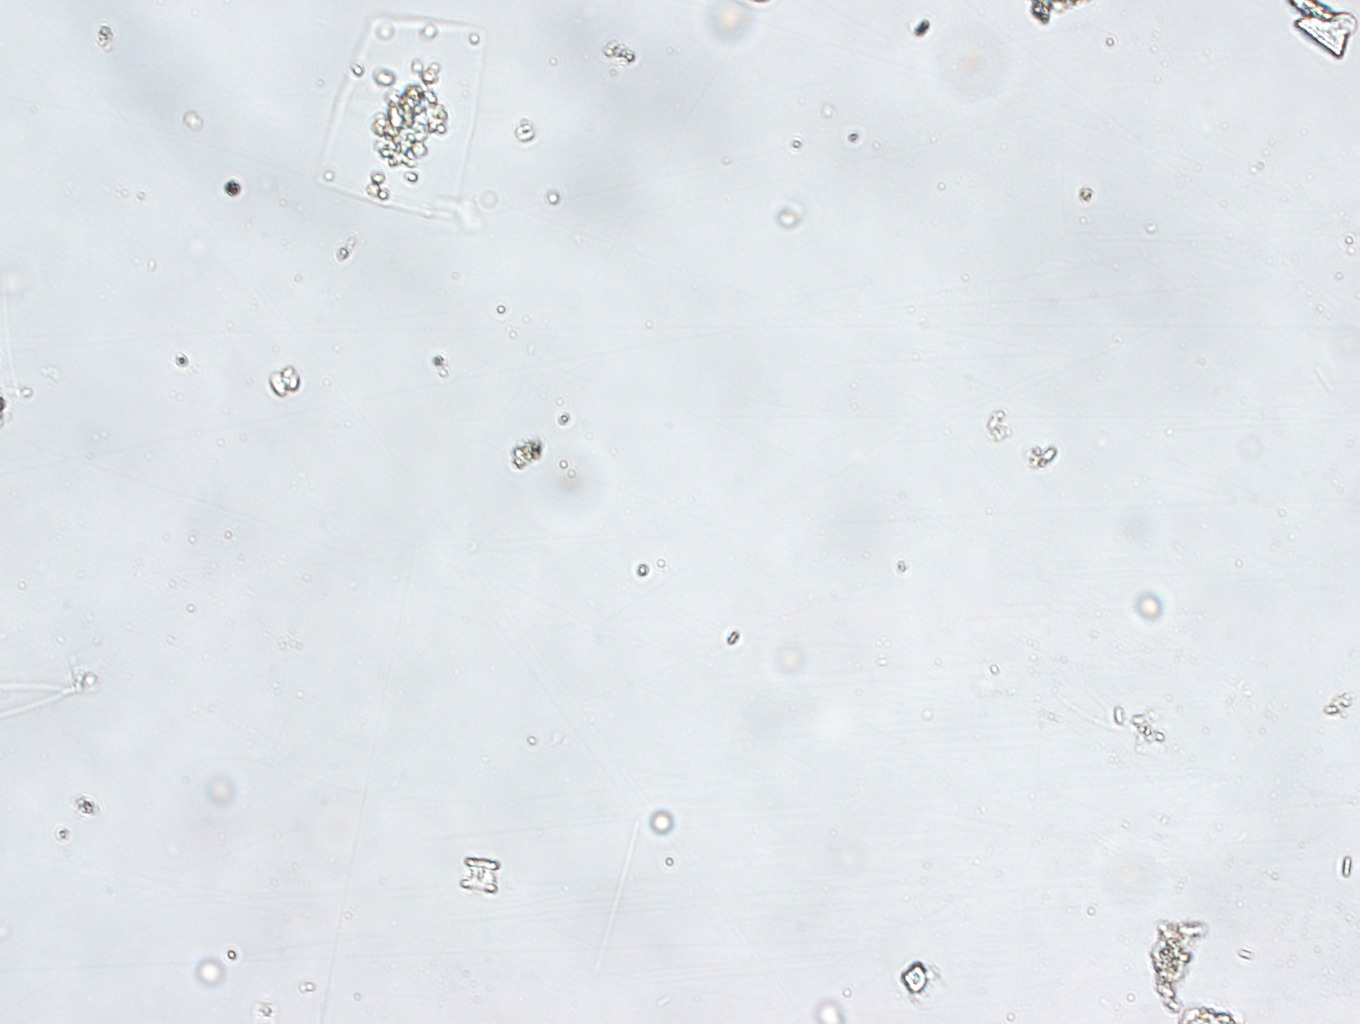helicotheca: (310, 9, 493, 228)
